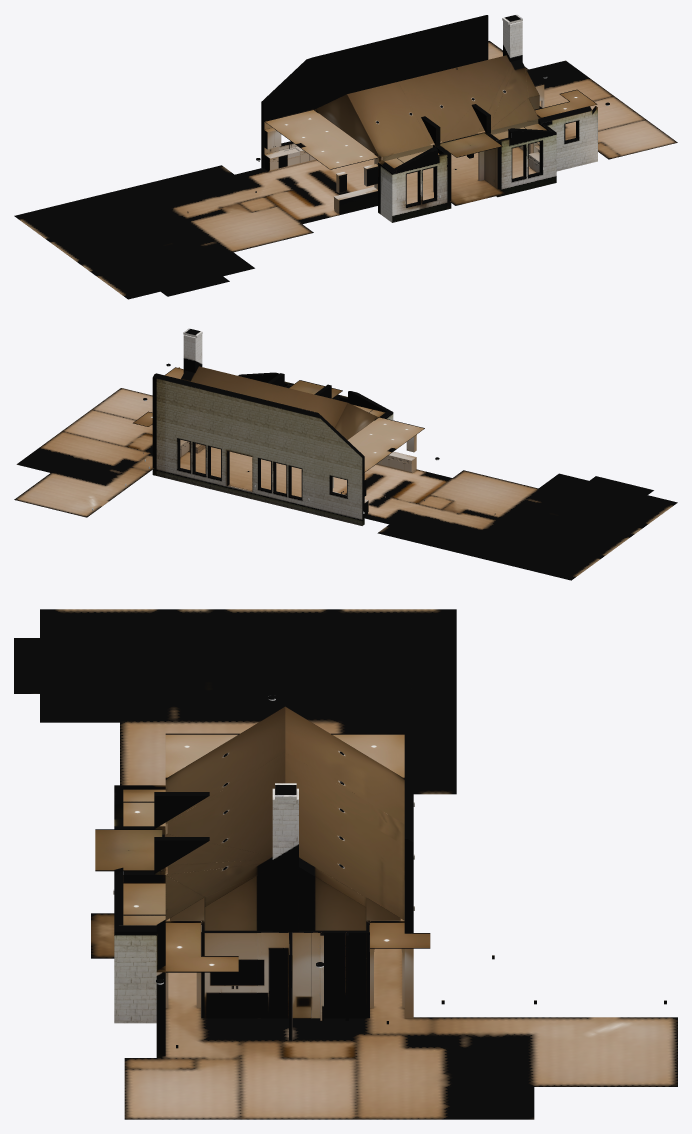
File: baked.glb
3 views of the same model, one above another, from view 1: azimuth 30°, elevation 25°; view 2: azimuth 150°, elevation 25°; view 3: azimuth 270°, elevation 25° (orthographic). The views are drawn at different scales.
Parts seen in each view (by area): view 1: Wood floor (whole house) [638789] (baked), Vaulted ceiling (Dining and Family) [638821] (baked), Exterior wall · Family (north) [622225] (baked), Ceiling · Kitchen [638870] (baked), Exterior wall · Family (south) [622261] (baked), Exterior wall · Dining (south) [622260] (baked), Exterior wall · Kitchen (north) [622224] (baked), Exterior wall · Hall (south) [622262] (baked), Kitchen cabinets, front wall (Kitchen) [638734] (baked), Kitchen cabinets, rear wall (Kitchen) [638728] (baked), Exterior wall · Dining (west) [632767] (baked), Ceiling · Foyer [638877] (baked) (+3 smaller); view 2: Wood floor (whole house) [638789] (baked), Exterior wall · Family (north) [622225] (baked), Exterior wall · Kitchen (north) [622224] (baked), Vaulted ceiling (Dining and Family) [638821] (baked), Ceiling · Kitchen [638870] (baked), Exterior wall · Hall (north) [622226] (baked), Family room fireplace and chimney [622699] (baked), Kitchen cabinets, front wall (Kitchen) [638734] (baked), Exterior wall · Dining (south) [622260] (baked); view 3: Wood floor (whole house) [638789] (baked), Vaulted ceiling (Dining and Family) [638821] (baked), Interior wall · Bath 3 / Family [622307] (baked), Exterior wall · Family (east) [632768] (baked), Family room fireplace and chimney [622699] (baked), Ceiling · Kitchen [638870] (baked), Ceiling · Foyer [638877] (baked), Ceiling [639037] (baked), Interior wall · Bath 3 / Family [622306] (baked), Fireplace hearth, firebox and mantel (Family) [638798] (bake, Interior wall · Bath 3 Tub & Wc / Family [622303] (baked), Exterior wall · Hall (north) [622226] (baked) (+10 smaller).
Part boxes in pixels (<box>): Wood floor (whole house) [638789] (baked): <box>14,41,677,299</box>; Vaulted ceiling (Dining and Family) [638821] (baked): <box>315,55,539,160</box>; Exterior wall · Family (north) [622225] (baked): <box>315,18,474,109</box>; Ceiling · Kitchen [638870] (baked): <box>264,110,379,169</box>; Exterior wall · Family (south) [622261] (baked): <box>495,128,552,197</box>; Exterior wall · Dining (south) [622260] (baked): <box>394,147,451,221</box>; Exterior wall · Kitchen (north) [622224] (baked): <box>261,57,314,168</box>; Exterior wall · Hall (south) [622262] (baked): <box>538,106,597,171</box>; Kitchen cabinets, front wall (Kitchen) [638734] (baked): <box>333,164,377,214</box>; Kitchen cabinets, rear wall (Kitchen) [638728] (baked): <box>264,128,316,171</box>; Exterior wall · Dining (west) [632767] (baked): <box>378,160,396,222</box>; Ceiling · Foyer [638877] (baked): <box>440,132,502,157</box>; Wood floor (whole house) [638789] (baked): <box>14,388,677,580</box>; Exterior wall · Family (north) [622225] (baked): <box>165,376,316,514</box>; Exterior wall · Kitchen (north) [622224] (baked): <box>314,412,364,525</box>; Vaulted ceiling (Dining and Family) [638821] (baked): <box>181,366,377,439</box>; Ceiling · Kitchen [638870] (baked): <box>347,417,424,472</box>; Exterior wall · Hall (north) [622226] (baked): <box>152,373,167,477</box>; Family room fireplace and chimney [622699] (baked): <box>183,328,202,372</box>; Kitchen cabinets, front wall (Kitchen) [638734] (baked): <box>376,434,416,473</box>; Exterior wall · Dining (south) [622260] (baked): <box>336,391,388,412</box>; Wood floor (whole house) [638789] (baked): <box>14,609,677,1119</box>; Vaulted ceiling (Dining and Family) [638821] (baked): <box>165,706,404,930</box>; Interior wall · Bath 3 / Family [622307] (baked): <box>204,930,257,1018</box>; Exterior wall · Family (east) [632768] (baked): <box>114,925,156,1023</box>; Family room fireplace and chimney [622699] (baked): <box>272,783,298,931</box>; Ceiling · Kitchen [638870] (baked): <box>165,733,404,778</box>; Ceiling · Foyer [638877] (baked): <box>95,829,163,871</box>; Ceiling [639037] (baked): <box>165,922,238,972</box>; Interior wall · Bath 3 / Family [622306] (baked): <box>261,930,288,1018</box>; Fireplace hearth, firebox and mantel (Family) [638798] (bake: <box>257,864,315,930</box>; Interior wall · Bath 3 Tub & Wc / Family [622303] (baked): <box>324,930,345,1018</box>; Exterior wall · Hall (north) [622226] (baked): <box>404,825,413,1018</box>.
Size of the model in its own units: 39.09 by 8.43 by 21.49.
62 materials, 62 textured.
